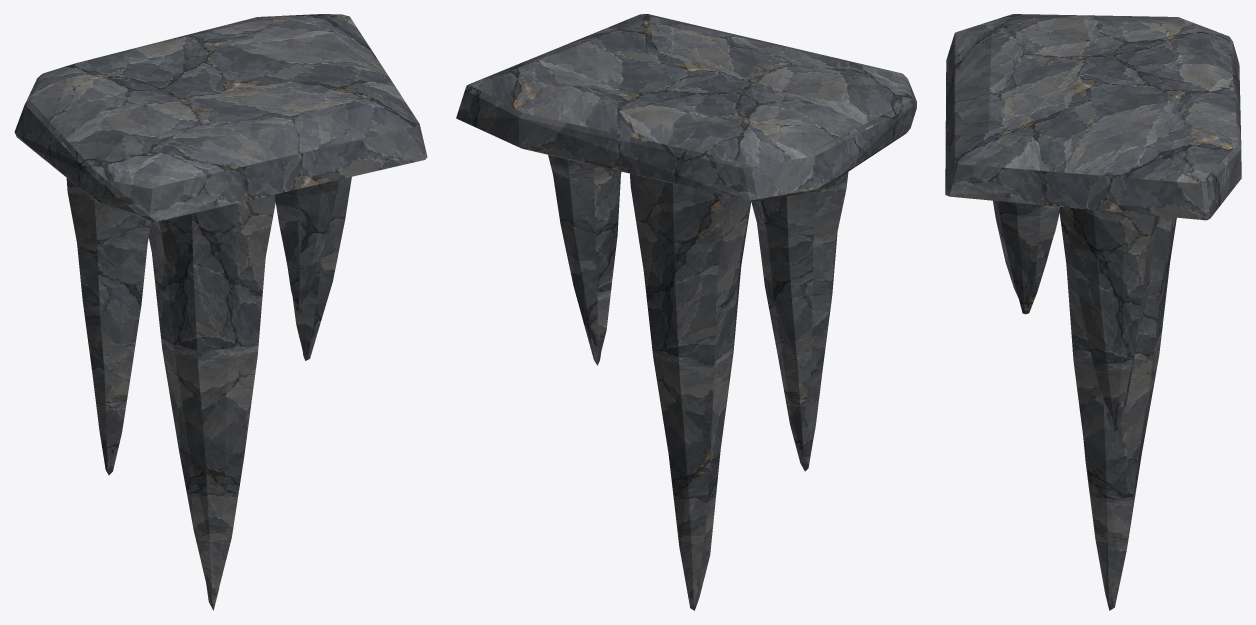
File: Cave_R17_StalactiteCluster.fbx
3 renders of one model, left to right at view 1: azimuth 30°, elevation 25°; view 2: azimuth 150°, elevation 25°; view 3: azimuth 270°, elevation 25°, orthographic.
Visible parts, largest first — view 1: Cave_R17_StalactiteCluster_LOD0; view 2: Cave_R17_StalactiteCluster_LOD0; view 3: Cave_R17_StalactiteCluster_LOD0.
Part boxes in pixels (x1,y1,x2,y2): Cave_R17_StalactiteCluster_LOD0: (14,14,427,610); Cave_R17_StalactiteCluster_LOD0: (456,14,916,610); Cave_R17_StalactiteCluster_LOD0: (945,14,1241,610).
Size of what is drawn, in the model's own units: 2.37 by 3.36 by 1.69.
Materials: 1 (1 with a texture image).
